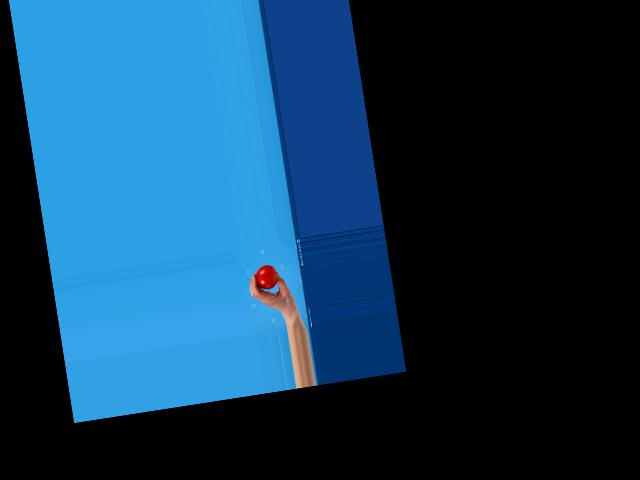tomato: (254, 264, 278, 290)
